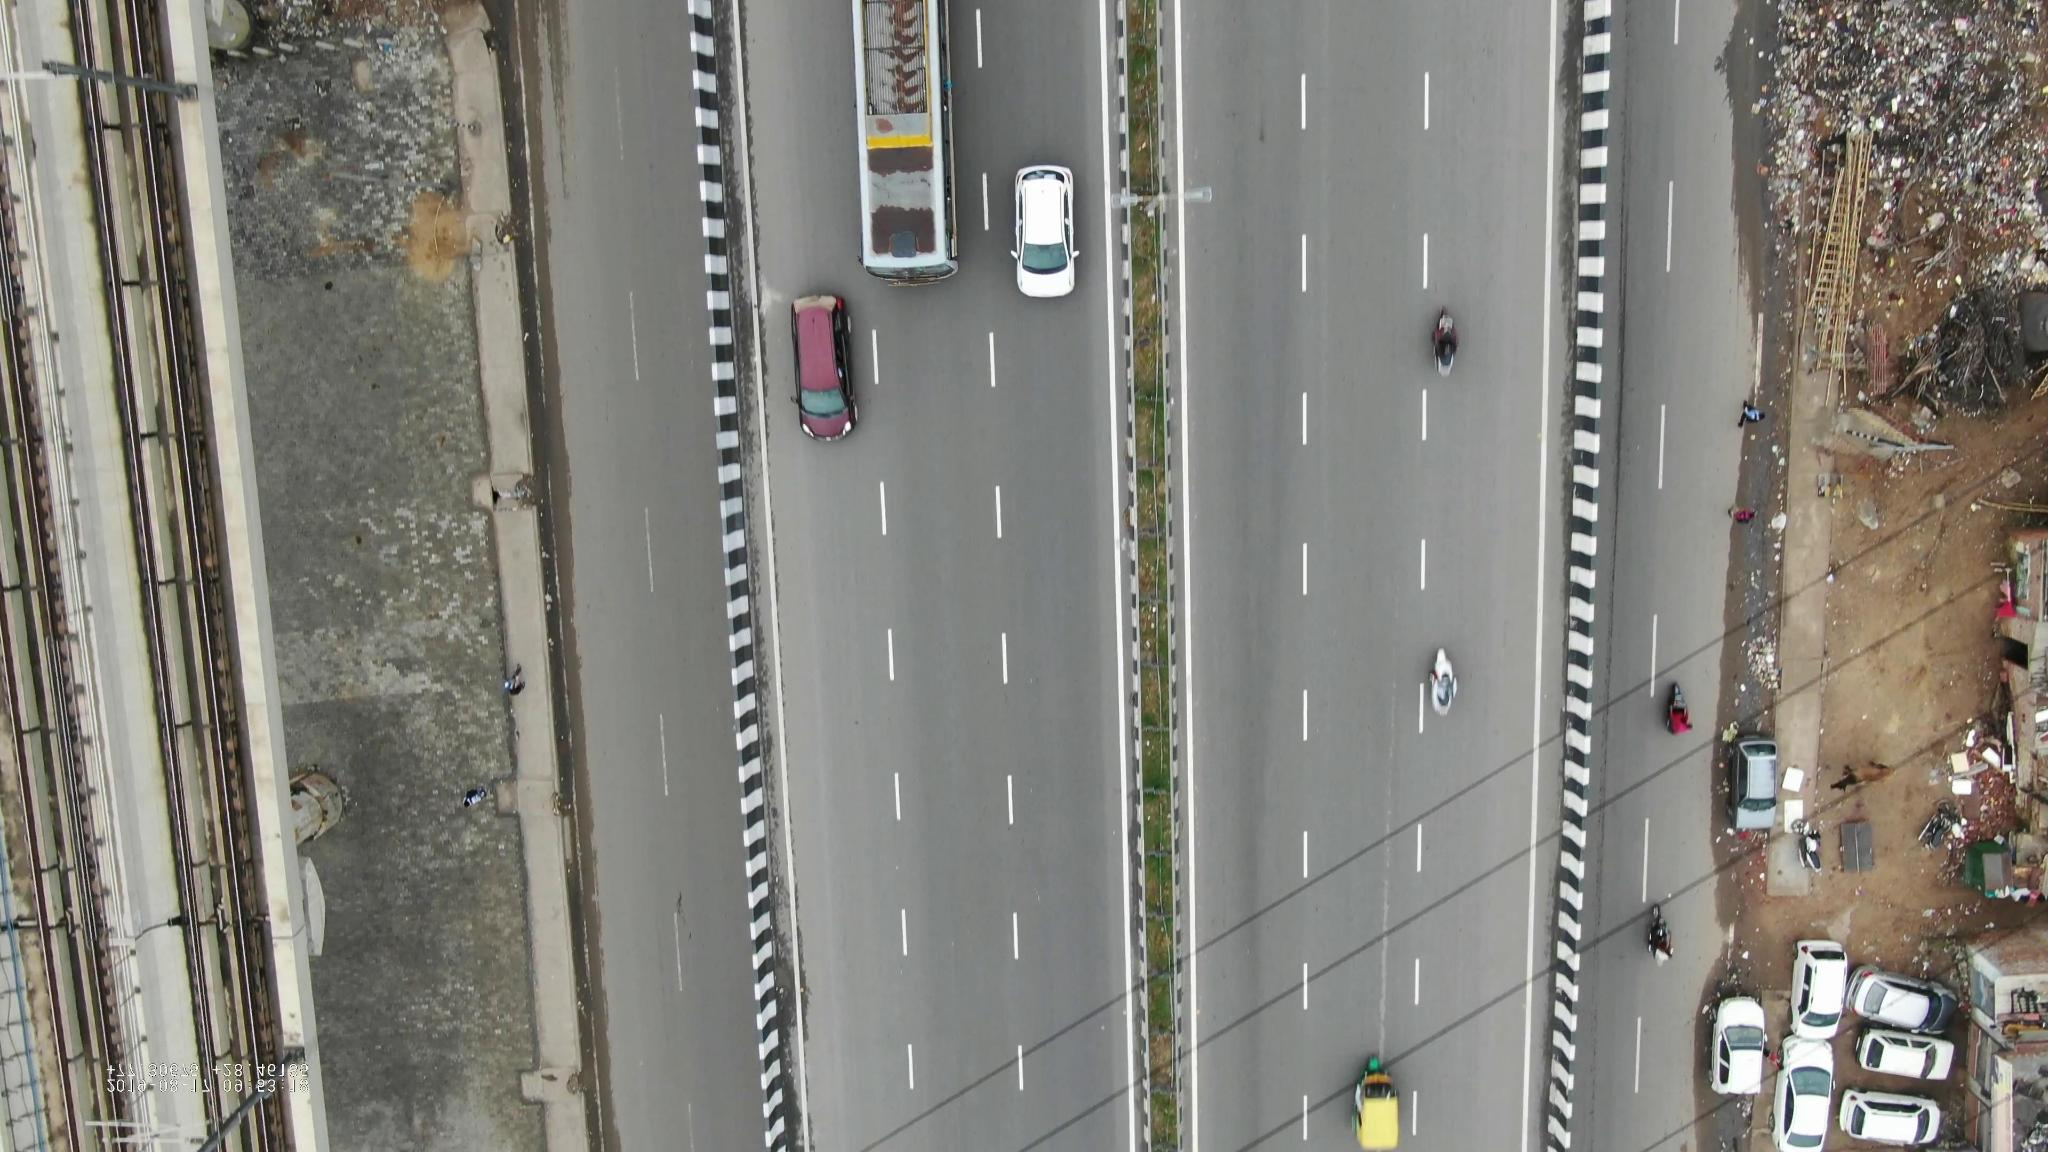Muddy_road: (1717, 539, 1786, 703)
Road_side_garbage: (1767, 1, 2042, 338)
